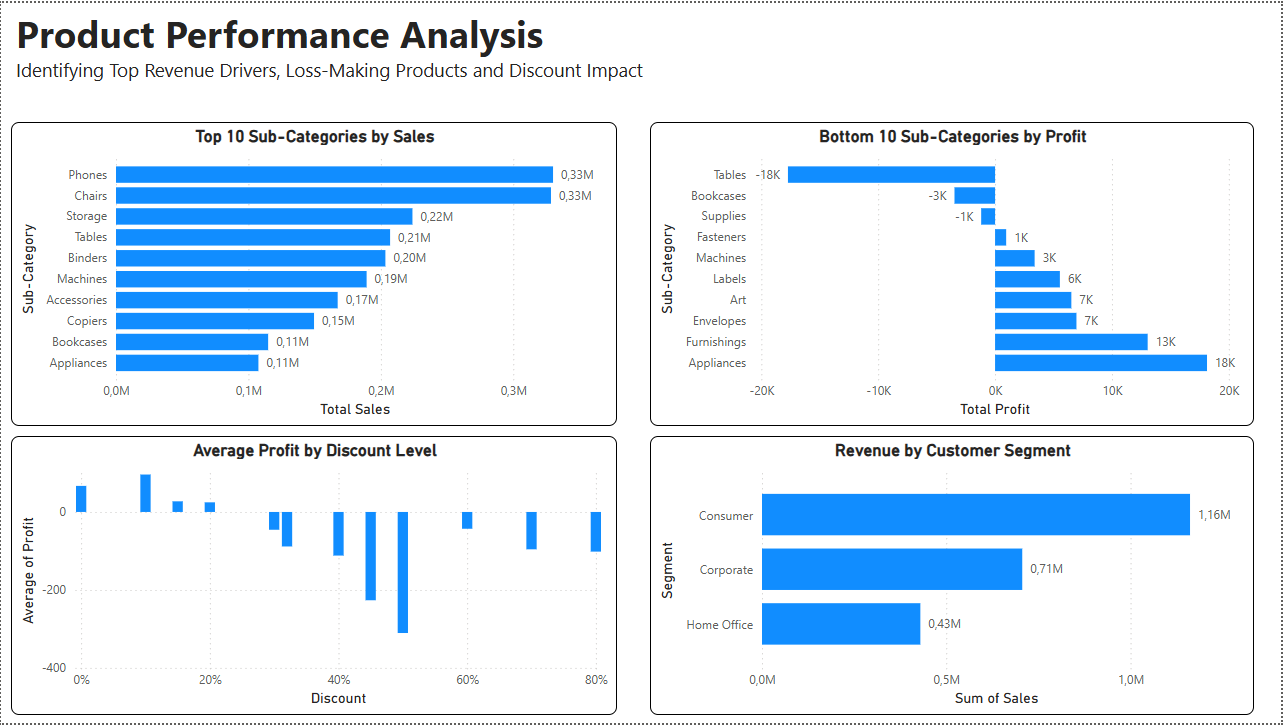

Layout of this report page (visuals, bound fields, positions):
{"tool":"powerbi","page":{"name":"Product Performance Analysis","canvas":[1280,720],"ordinal":1},"visuals":[{"type":"textbox","box":[10,0,673.8,95],"z":0},{"type":"clusteredBarChart","title":"Top 10 Sub-Categories by Sales","fields":{"Category":["SampleSuperstore.Sub-Category"],"Y":["SampleSuperstore.Total Sales"]},"box":[9.8,118.6,606.5,304.5],"z":1000},{"type":"clusteredBarChart","title":"Bottom 10 Sub-Categories by Profit","fields":{"Category":["SampleSuperstore.Sub-Category"],"Y":["SampleSuperstore.Total Profit"]},"box":[649.3,118.6,604.1,304.5],"z":2000},{"type":"clusteredColumnChart","title":"Average Profit by Discount Level","fields":{"Category":["SampleSuperstore.Discount"],"Y":["Avg(SampleSuperstore.Profit)"]},"box":[9.8,432.9,606.5,278.8],"z":3000},{"type":"clusteredBarChart","title":"Revenue by Customer Segment","fields":{"Category":["SampleSuperstore.Segment"],"Y":["Sum(SampleSuperstore.Sales)"]},"box":[649.3,432.9,604.1,278.8],"z":4000}]}

Visuals, with their boxes in screenshot pixels (x1, y1, x2, y2), scaled from the page's 1280x720 canvas onto the 1283x725 screenshot:
textbox: <bbox>10, 0, 685, 96</bbox>
"Top 10 Sub-Categories by Sales" clusteredBarChart: <bbox>10, 119, 618, 426</bbox>
"Bottom 10 Sub-Categories by Profit" clusteredBarChart: <bbox>651, 119, 1256, 426</bbox>
"Average Profit by Discount Level" clusteredColumnChart: <bbox>10, 436, 618, 717</bbox>
"Revenue by Customer Segment" clusteredBarChart: <bbox>651, 436, 1256, 717</bbox>
